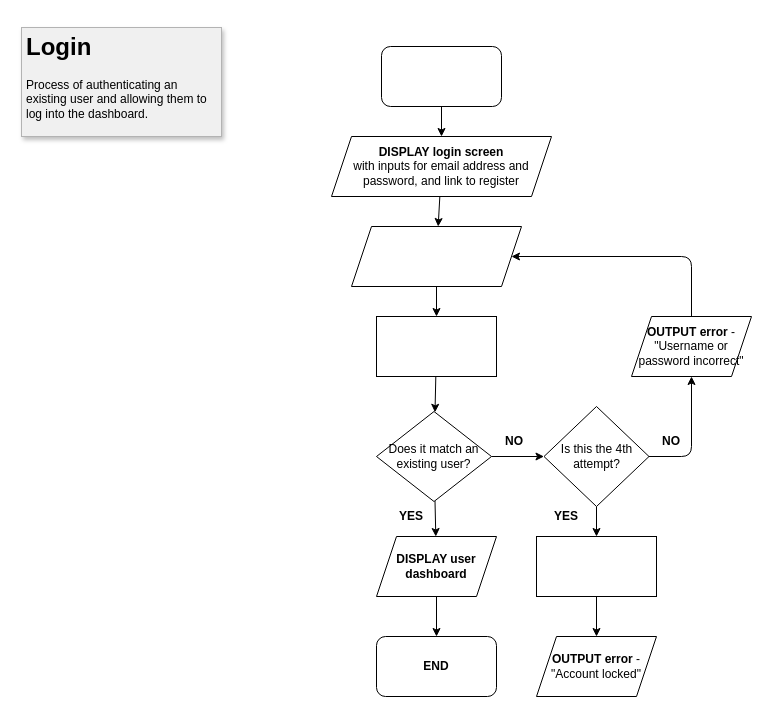
Some shapes in this 769 by 714 pixel diagram are drawn without their labels. Each missing label, with the centre of its shape:
INPUT email address and password: the point at 436,256
LOCK account: the point at 596,566
START: the point at 441,76
VERIFY login details with database: the point at 436,346
